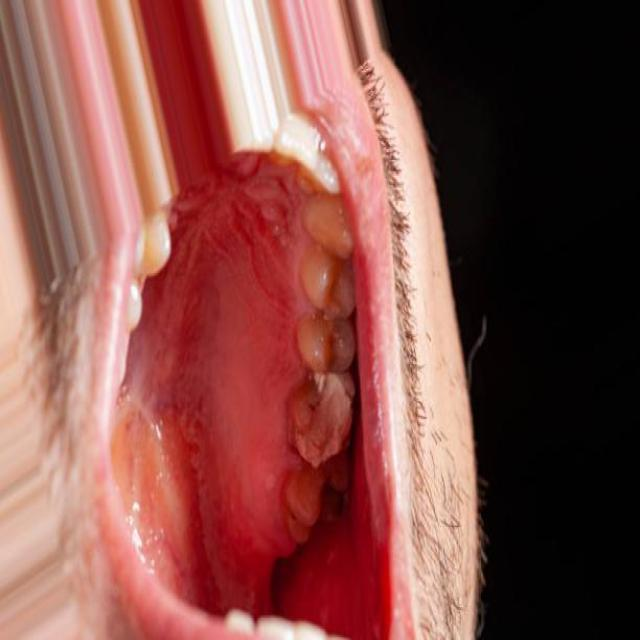caries: (284, 368, 359, 472)
